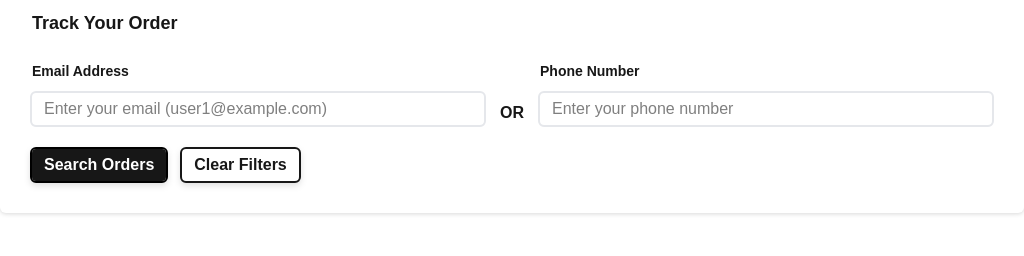
Test case: When user enters an invalid phone number 333 and tries to search, an error message appears
Step 1. Type "333" into the field labelled "Phone Number" → (766, 109), box [540,93,992,125]
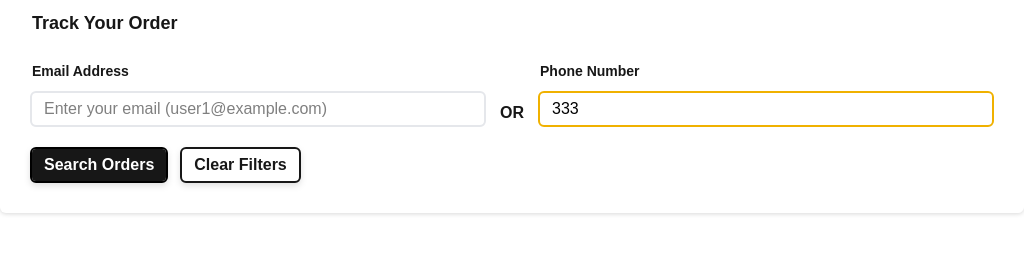
Step 2. Click the button "Search Orders" → (99, 165), box [32,149,166,181]
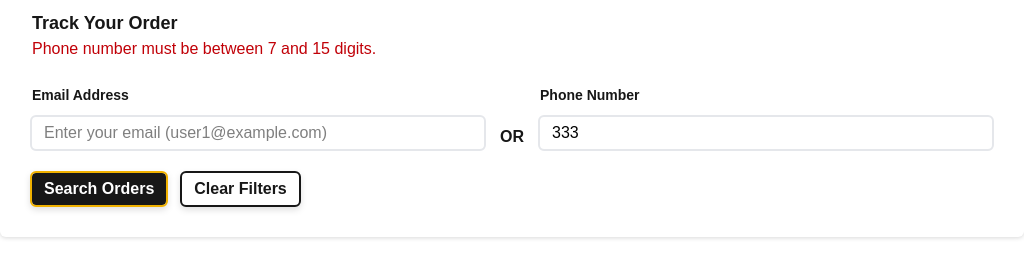
Check: the text "Phone number must be between 7 and 15 digits." is shown, box [32,40,376,57]
